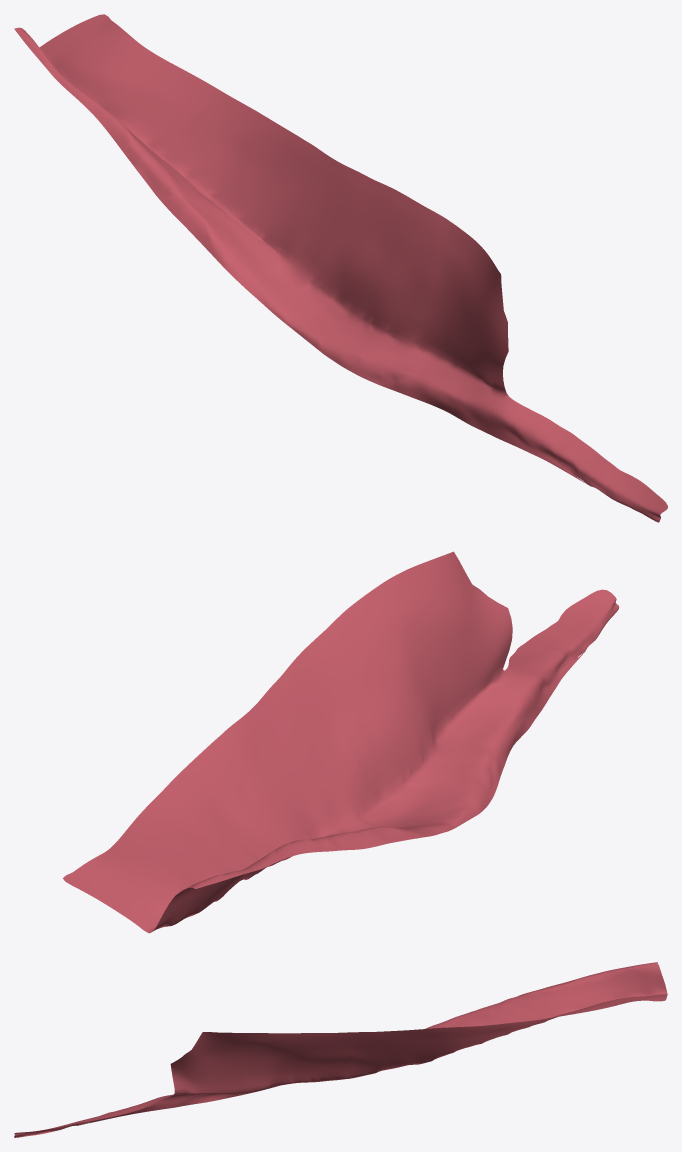
3 views of the same model, one above another, from view 1: azimuth 30°, elevation 25°; view 2: azimuth 150°, elevation 25°; view 3: azimuth 270°, elevation 25° (orthographic). The views are drawn at different scales.
Parts seen in each view (by area): view 1: 左侧股内侧肌间隔; view 2: 左侧股内侧肌间隔; view 3: 左侧股内侧肌间隔.
Boxes of the visible parts, left/top/right/bottom form: 左侧股内侧肌间隔: left=14, top=14, right=667, bottom=522; 左侧股内侧肌间隔: left=63, top=551, right=619, bottom=933; 左侧股内侧肌间隔: left=14, top=962, right=667, bottom=1137.
Size of the model in its own units: 0.1267 by 0.1235 by 0.5981.
